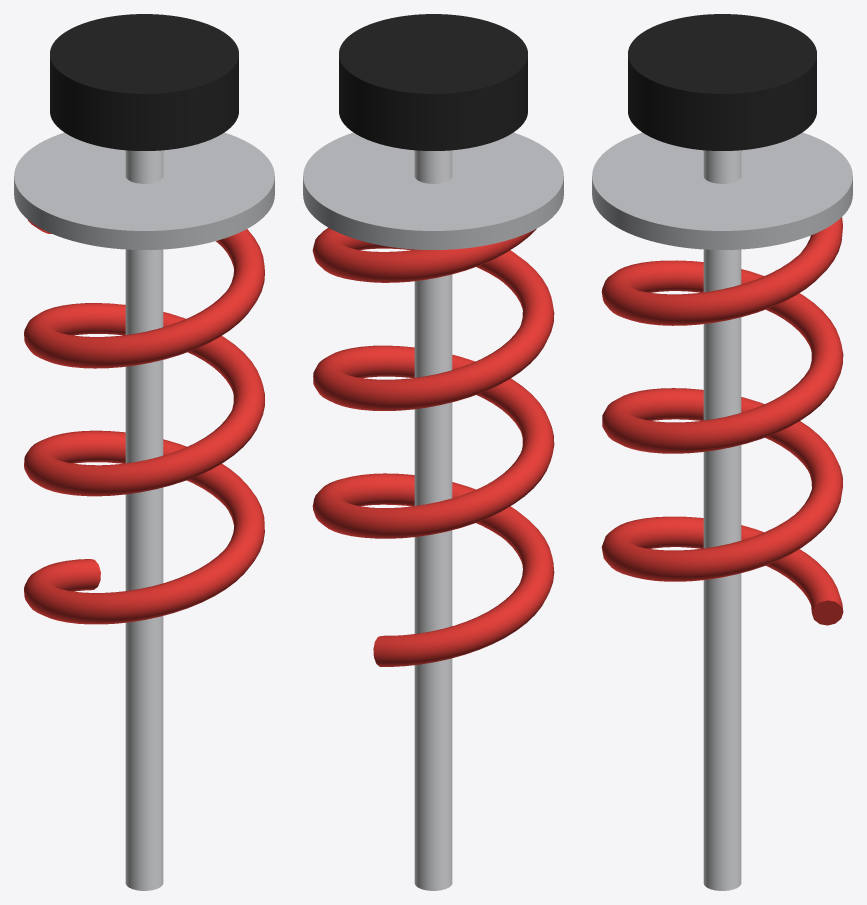
Rendered from shock_rod.glb.
3 renders of one model, left to right at view 1: azimuth 30°, elevation 25°; view 2: azimuth 150°, elevation 25°; view 3: azimuth 270°, elevation 25°, orthographic.
Visible parts, largest first — view 1: coil_3, steel_2, bush_1, chrome_0; view 2: coil_3, steel_2, bush_1, chrome_0; view 3: coil_3, steel_2, bush_1, chrome_0.
Part boxes in pixels (left/top/right/bottom): coil_3: left=24, top=220, right=264, bottom=624; steel_2: left=14, top=132, right=274, bottom=249; bush_1: left=50, top=14, right=238, bottom=150; chrome_0: left=125, top=150, right=163, bottom=890; coil_3: left=312, top=227, right=554, bottom=666; steel_2: left=303, top=132, right=563, bottom=249; bush_1: left=339, top=14, right=527, bottom=150; chrome_0: left=414, top=150, right=452, bottom=890; coil_3: left=601, top=217, right=843, bottom=625; steel_2: left=592, top=132, right=852, bottom=249; bush_1: left=628, top=14, right=816, bottom=150; chrome_0: left=703, top=150, right=741, bottom=890.
Size of the model in its own units: 0.1239 by 0.435 by 0.124.
